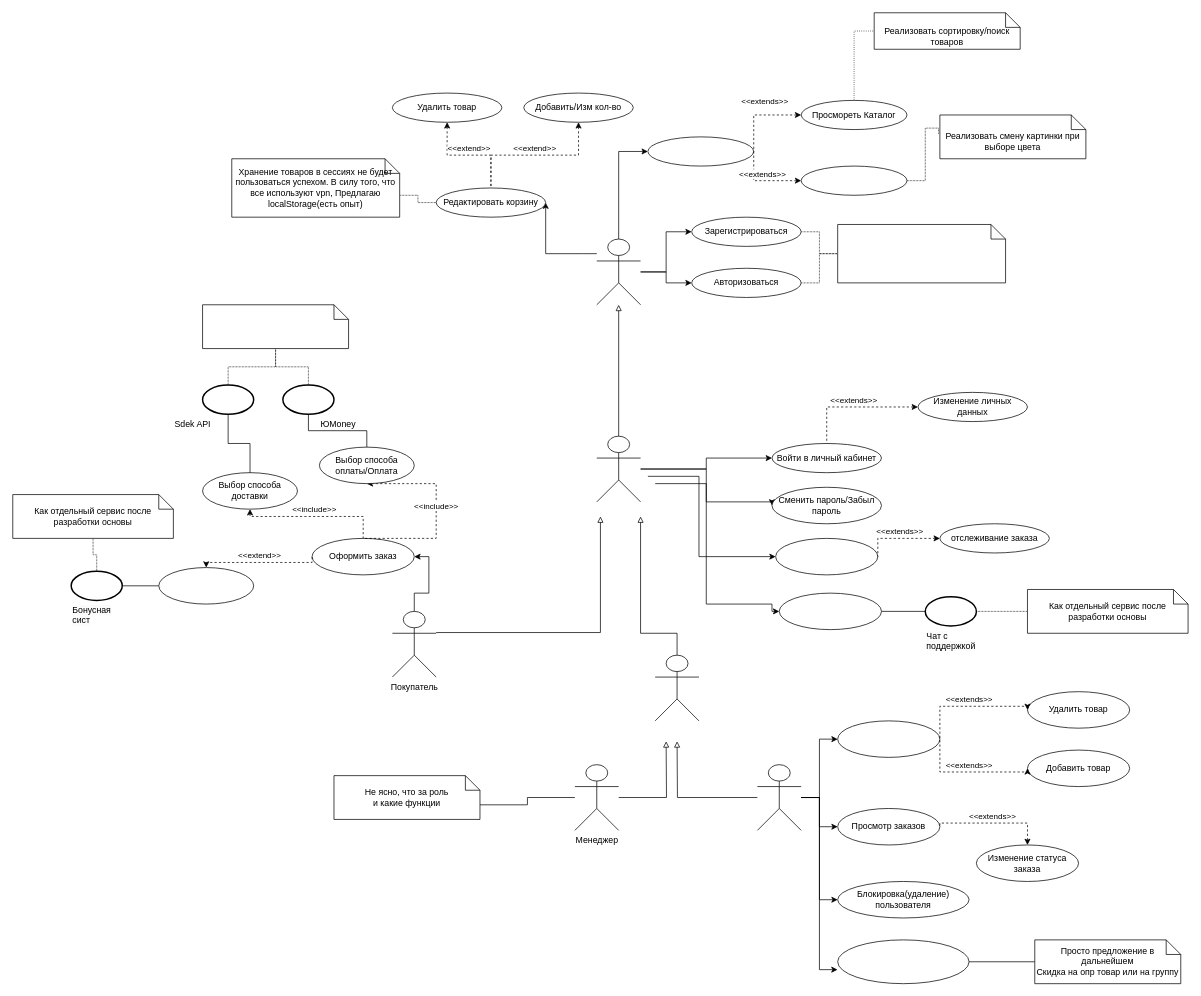
Image size: 1201x996. Some labels were removed from this diagram. Here are the shapes that lost their labels. From the top down, the centre of each, then its label:
the point at 700,151: Просмотреть ассортимент
the point at 853,180: Просмореть Товар
the point at 618,271: Пользователь
the point at 921,253: Реализовать отправка/создание корзины пользователя после аунтификации
the point at 275,326: Не утверждено/Возможны изменения
the point at 618,468: Авторизованный пользователь
the point at 826,556: Просмотр истории заказов
the point at 206,585: Добавление скидки
the point at 830,611: Связаться с поддержкой
the point at 676,687: Работник магазина
the point at 888,738: Редактировать ассортимент
the point at 779,797: Админ
the point at 903,961: Создание скидок/промокодов
